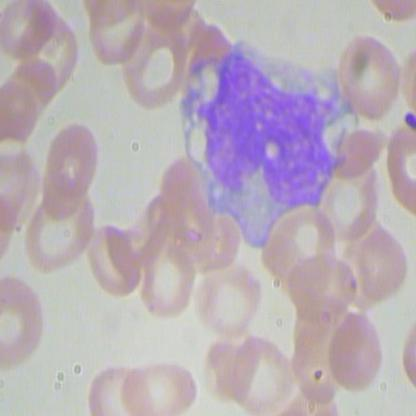RBC: (23, 181, 98, 278), (336, 32, 408, 124), (194, 257, 267, 335), (119, 358, 203, 415), (1, 275, 49, 369), (327, 312, 385, 389), (352, 225, 410, 302), (44, 121, 99, 199), (84, 220, 139, 298), (287, 254, 356, 314), (84, 364, 152, 415)
WBC: (184, 36, 358, 255)
